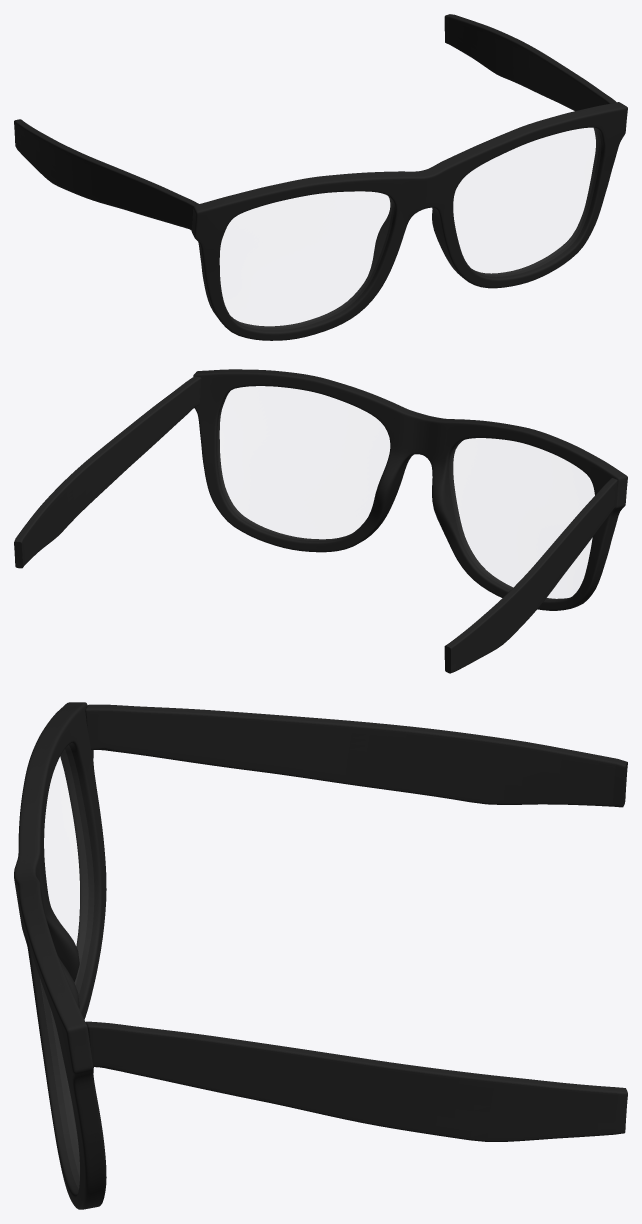
The model's file is EnnioApp.glb.
3 renders of one model, top to bottom at view 1: azimuth 30°, elevation 25°; view 2: azimuth 150°, elevation 25°; view 3: azimuth 270°, elevation 25°, orthographic. The views are drawn at different scales.
Parts seen in each view (by area): view 1: armacao; view 2: armacao; view 3: armacao.
Boxes of the visible parts, <box> form: armacao: <box>14,14,627,340</box>; armacao: <box>14,369,627,673</box>; armacao: <box>14,702,627,1209</box>.
Size of the model in its own units: 0.1613 by 0.0558 by 0.1214.
2 materials, 2 textured.
